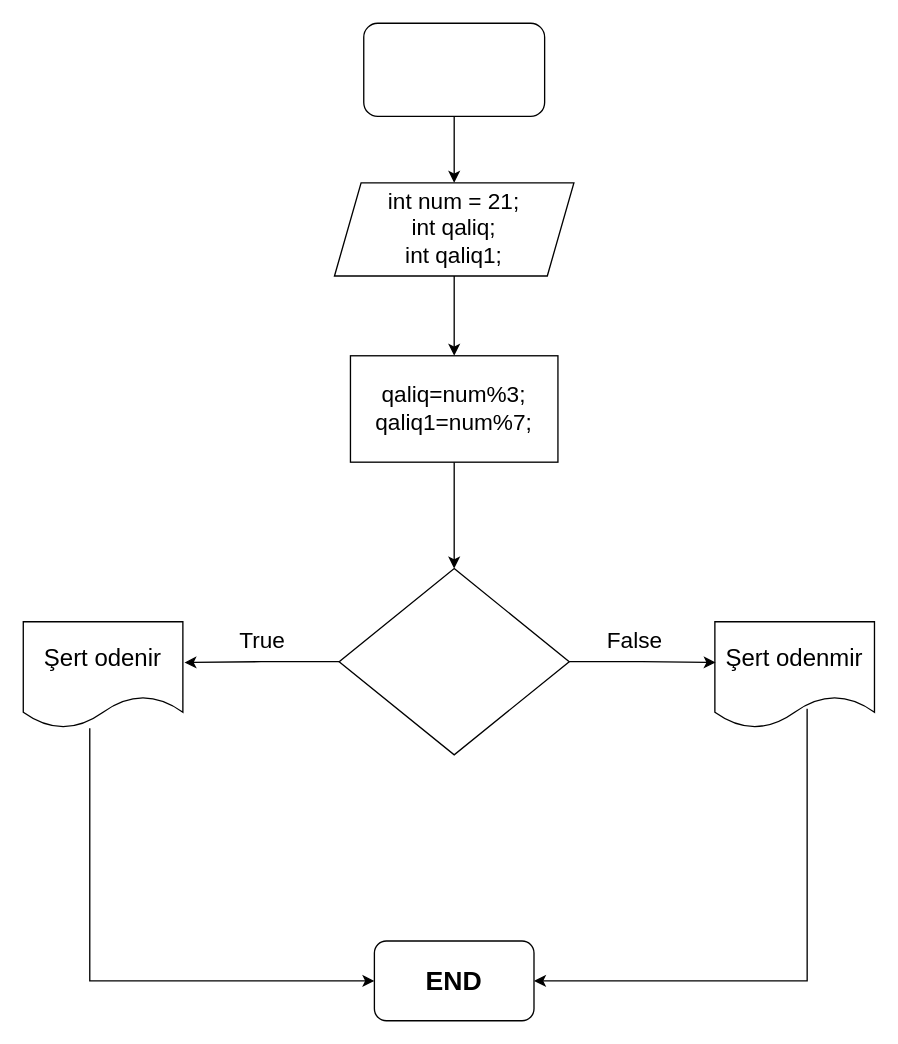
Some shapes in this 898 by 1044 pixel diagram are drawn without their labels. Here are the shapes that lost their labels. From the top down, the box of each, then its label:
(362, 22, 545, 116): Start
(338, 567, 569, 755): ( qaliq==0 && qaliq1==0 )
